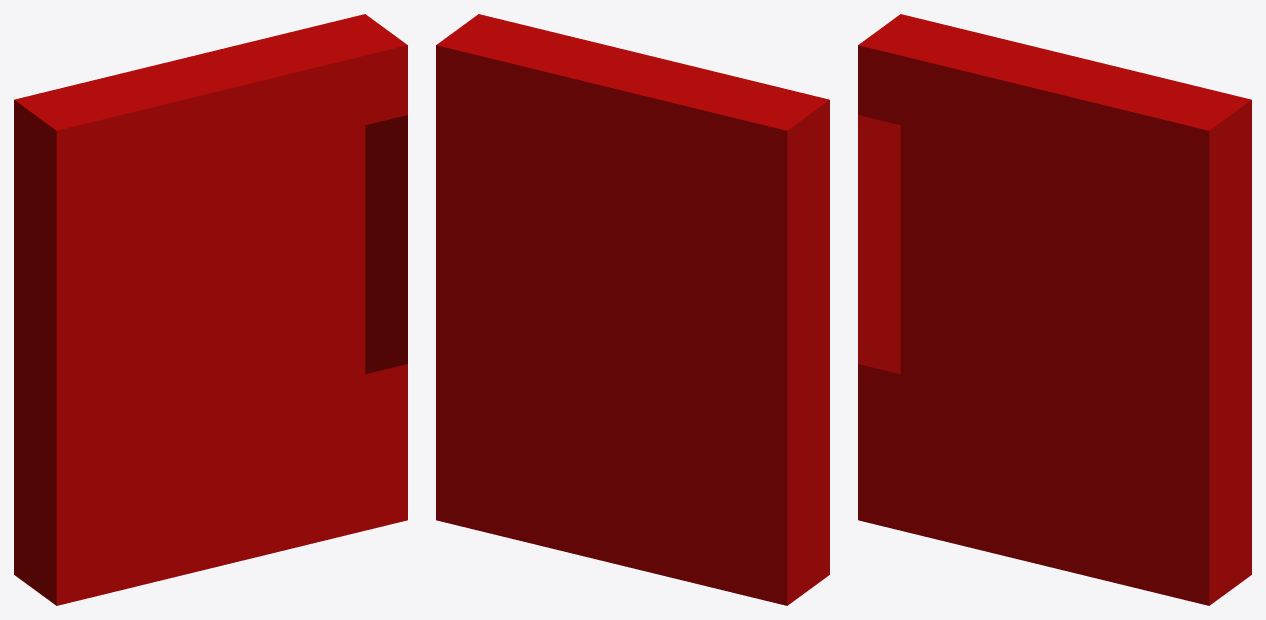
File: Counter_8_Exhibition_Cab1_Cab_31.FBX
The picture shows the model from 3 angles, left to right: view 1: azimuth 30°, elevation 25°; view 2: azimuth 150°, elevation 25°; view 3: azimuth 330°, elevation 25°; orthographic projection.
Visible parts, largest first — view 1: Counter_8_Exhibition_Cab1_Cab_31; view 2: Counter_8_Exhibition_Cab1_Cab_31; view 3: Counter_8_Exhibition_Cab1_Cab_31.
Boxes of the visible parts, x1=… form: Counter_8_Exhibition_Cab1_Cab_31: x1=14, y1=14, x2=407, y2=605; Counter_8_Exhibition_Cab1_Cab_31: x1=436, y1=14, x2=829, y2=605; Counter_8_Exhibition_Cab1_Cab_31: x1=858, y1=14, x2=1251, y2=605.
Bounding box in the file's own units: 239 × 310 × 50.3.
